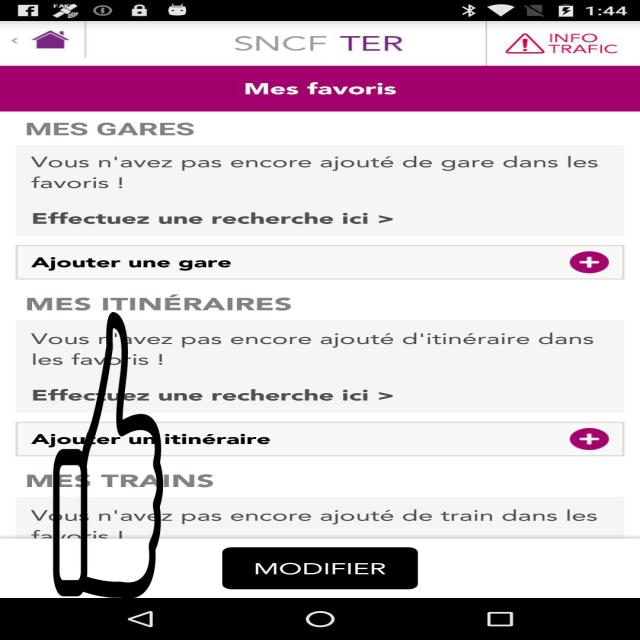privacy zuckering: (52, 312, 165, 599)
